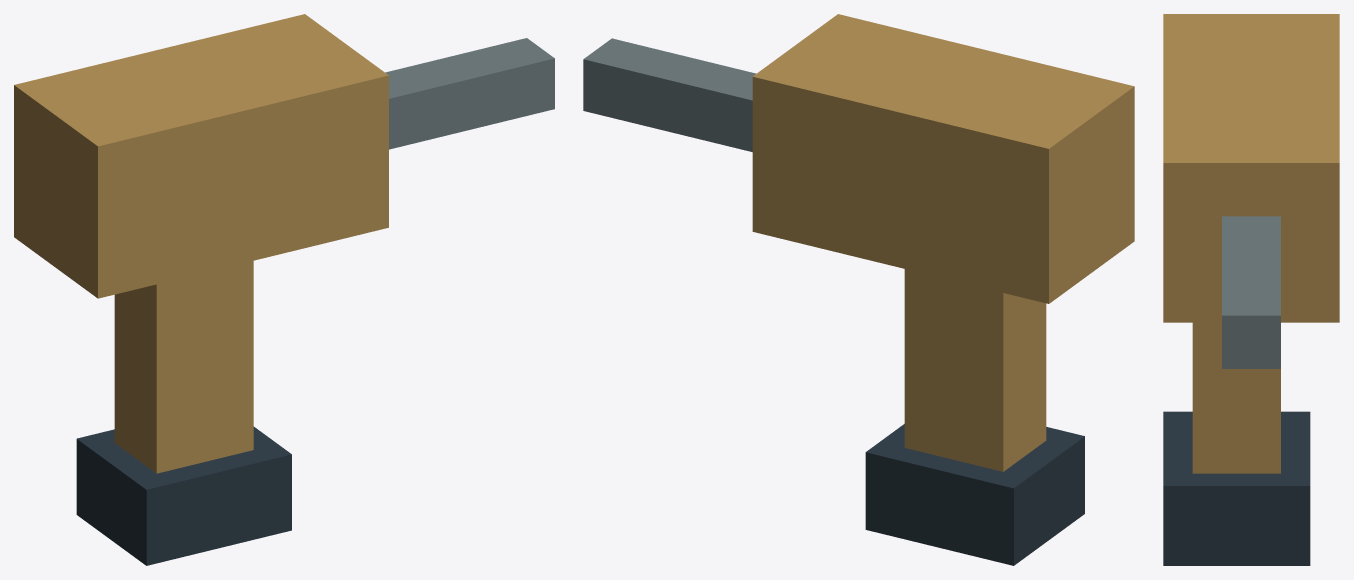
File: construction-11.glb
3 views of the same model, side by side, from view 1: azimuth 30°, elevation 25°; view 2: azimuth 150°, elevation 25°; view 3: azimuth 270°, elevation 25° (orthographic). The views are drawn at different scales.
Visible parts, largest first — view 1: Power drill; view 2: Power drill; view 3: Power drill.
Part boxes in pixels (x1,y1,x2,y2): Power drill: (14, 14, 554, 565); Power drill: (583, 14, 1134, 565); Power drill: (1163, 14, 1339, 565).
Bounding box in the file's own units: 1.6 × 1.36 × 0.48.
